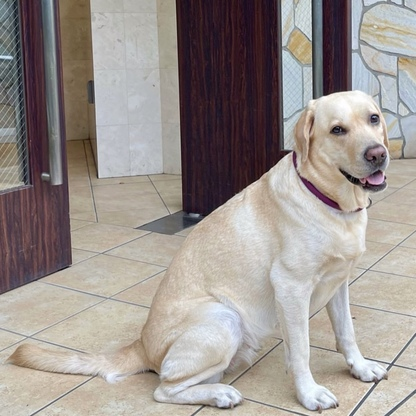labrado: (7, 84, 397, 404)
